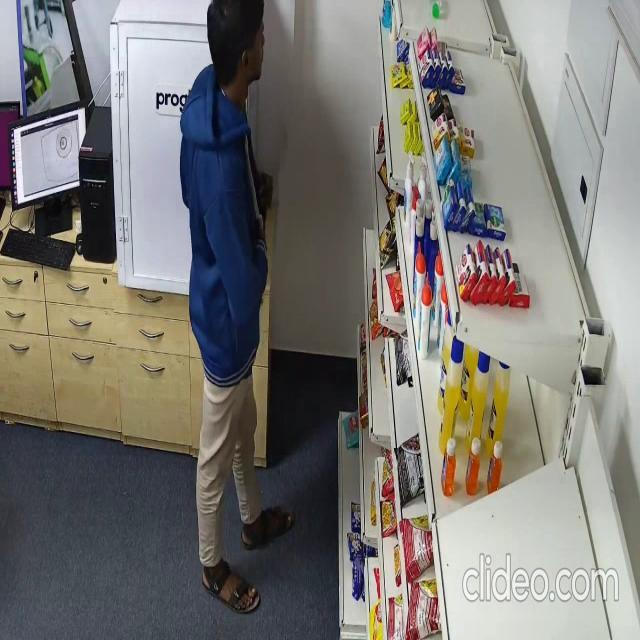Shoplifting: (175, 0, 295, 551)
